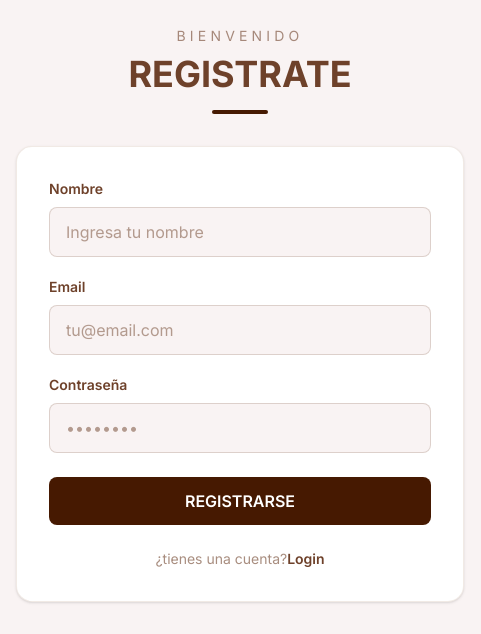
Test: Register › valida el largo de la contraseña
Type "Ana" into the field labelled "Nombre". click: (240, 232)
box: [49,207,431,257]
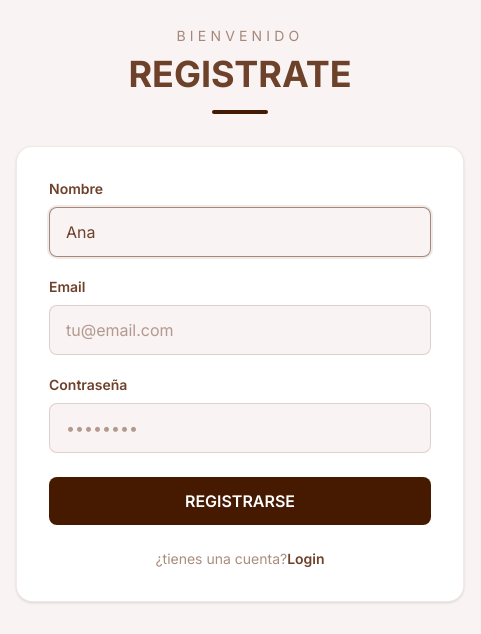
Type "ana@gmail.com" into the field labelled "Email". click: (240, 330)
box: [49,305,431,355]
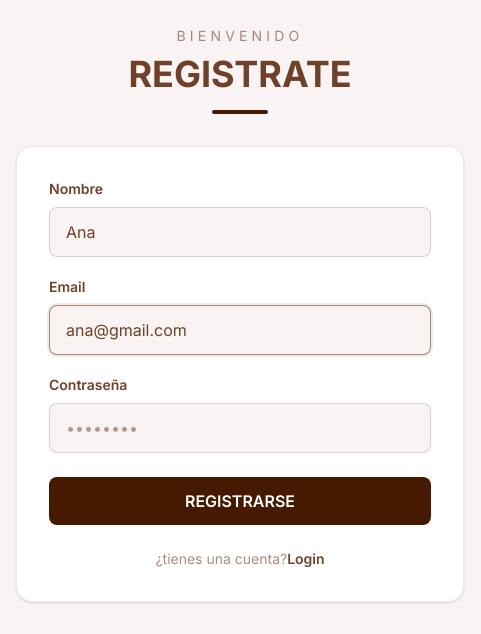
Type "12" into the password field labelled "Contraseña". click: (240, 428)
box: [49,403,431,453]
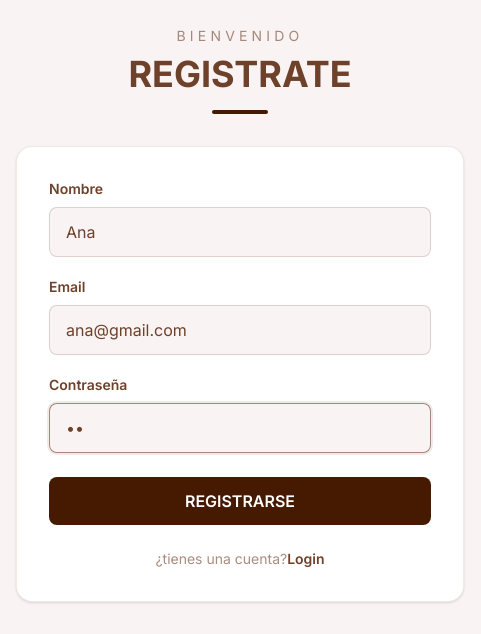
Click the button "REGISTRARSE". click: (240, 501)
box: [49,477,431,525]
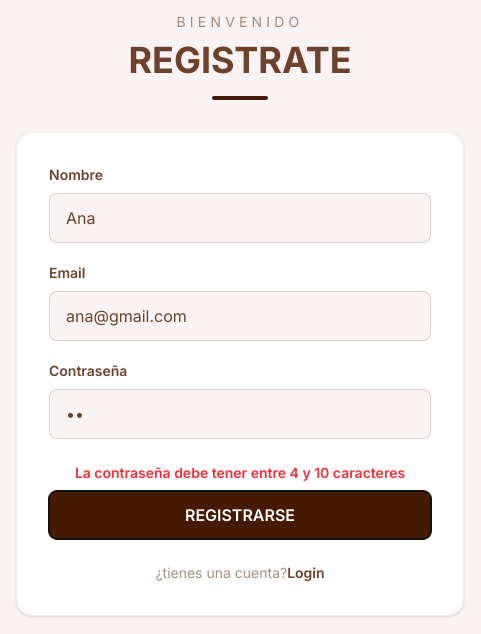
Check: the text "La contraseña debe tener entre 4 y 10 caracteres" is shown, box [49,463,431,483]
